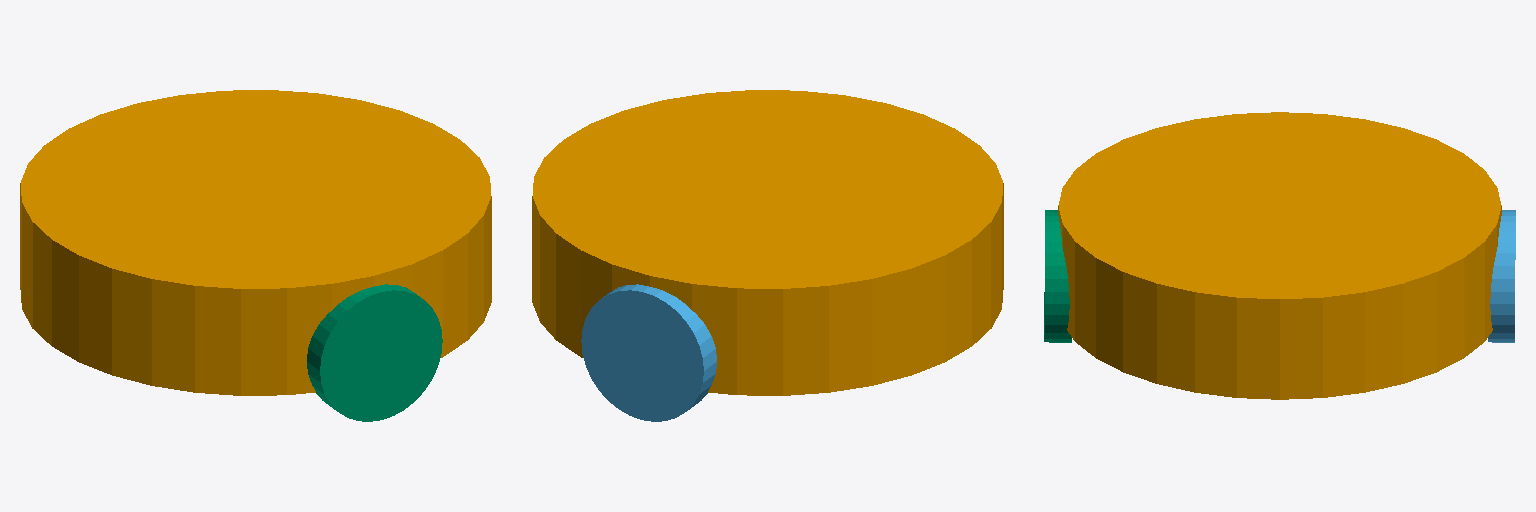
robot.urdf — example2:
<?xml version="1.0" ?>
<robot name="example2">
     <link name="base_link">
        <visual>
            <origin xyz="0 0 0.08" rpy="0 0 0"/>
            <geometry>
                <cylinder length="0.1" radius="0.20"/>
            </geometry>
        </visual>
        <collision>
            <origin xyz="0 0 0.08" rpy="0 0 0"/>
            <geometry>
                <cylinder length="0.1" radius="0.20"/>
            </geometry>
        </collision>
        <inertial>
            <mass value="20" />                                                                                                                                                      
            <inertia ixx="0.24" ixy = "0" ixz = "0"
                     iyy="0.24" iyz = "0"
                     izz="0.4" />
        </inertial>
    </link>

    <link name="left_wheel_link">
        <visual>
            <origin xyz="0 0 0" rpy="1.57 0 0"/>
            <geometry>
                <cylinder length="0.025" radius="0.06"/>
            </geometry>
        </visual>
        <collision>
            <origin xyz="0 0 0" rpy="1.57 0 0"/>
            <geometry>
                <cylinder length="0.025" radius="0.06"/>
            </geometry>
        </collision>
        <inertial>
            <mass value="5" />                                                                                                                                                      
            <inertia ixx="0.00228" ixy = "0" ixz = "0"
                     iyy="0.00228" iyz = "0"
                     izz="0.0015" />
        </inertial>
    </link>

    <joint name="base_lefty" type="continuous">
        <origin xyz="0 0.2 0.06" rpy="0 0 0" />
        <parent link="base_link" />
        <child link="left_wheel_link" />
        <axis xyz="0 1 0" />
    </joint>

    <link name="right_wheel_link">
        <visual>
            <origin xyz="0 0 0" rpy="1.57 0 0"/>
            <geometry>
                <cylinder length="0.025" radius="0.06"/>
            </geometry>
        </visual>
        <collision>
            <origin xyz="0 0 0" rpy="1.57 0 0"/>
            <geometry>
                <cylinder length="0.025" radius="0.06"/>
            </geometry>
        </collision>
        <inertial>
            <mass value="5" />    
            <inertia ixx="0.00228" ixy = "0" ixz = "0" 
                     iyy="0.00228" iyz = "0" 
                     izz="0.0015" />
        </inertial>
    </link>

    <joint name="base_right" type="continuous">
        <origin xyz="0 -0.2 0.06" rpy="0 0 0" />
        <parent link="base_link" />
        <child link="right_wheel_link" />
        <axis xyz="0 1 0" />
    </joint>
</robot>

--- Render facts (derived) ---
Views: 3 orthographic renders of the robot side by side, from view 1: azimuth 30°, elevation 25°; view 2: azimuth 150°, elevation 25°; view 3: azimuth 270°, elevation 25°.
Robot: example2 — 3 links, 2 joints (2 continuous); root link base_link; default pose: every joint at zero.
Visible links, largest first — view 1: base_link, right_wheel_link; view 2: base_link, left_wheel_link; view 3: base_link, left_wheel_link, right_wheel_link.
Boxes of the visible links, <box> form: base_link: <box>20,90,491,395</box>; right_wheel_link: <box>307,284,442,421</box>; base_link: <box>532,90,1003,395</box>; left_wheel_link: <box>581,284,716,421</box>; base_link: <box>1058,112,1501,399</box>; left_wheel_link: <box>1488,210,1515,342</box>; right_wheel_link: <box>1044,210,1071,342</box>.
Bounding box of the posed robot: 0.4 × 0.4251 × 0.13 m (x, y, z).
Geometry: primitives only (box / cylinder / sphere), no mesh files.